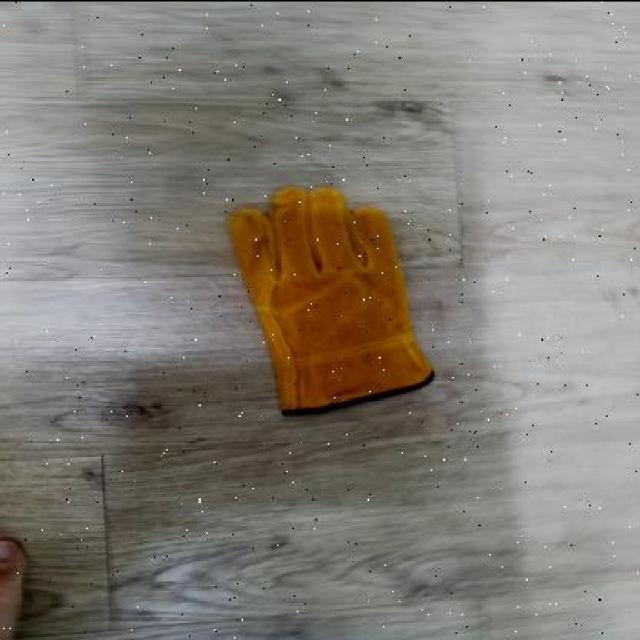Gloves: (228, 184, 441, 421)
